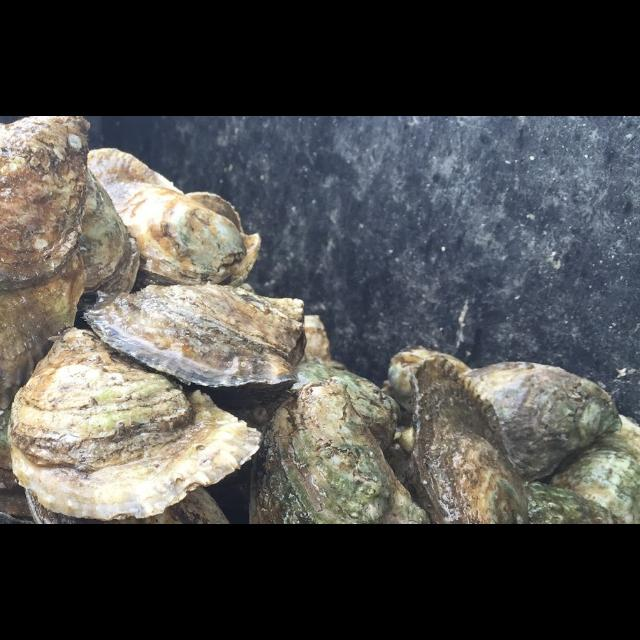Oyster-Closed: (88, 284, 305, 397)
Oyster-Indeterminate: (8, 328, 261, 521), (249, 379, 431, 524), (86, 147, 262, 285), (404, 356, 529, 524), (465, 362, 622, 484), (0, 116, 92, 291), (0, 253, 85, 409), (265, 361, 401, 453), (543, 415, 639, 524), (77, 169, 141, 312), (26, 488, 230, 524), (385, 350, 472, 416), (523, 483, 623, 524), (0, 409, 31, 517), (183, 193, 243, 231), (301, 315, 334, 367)
